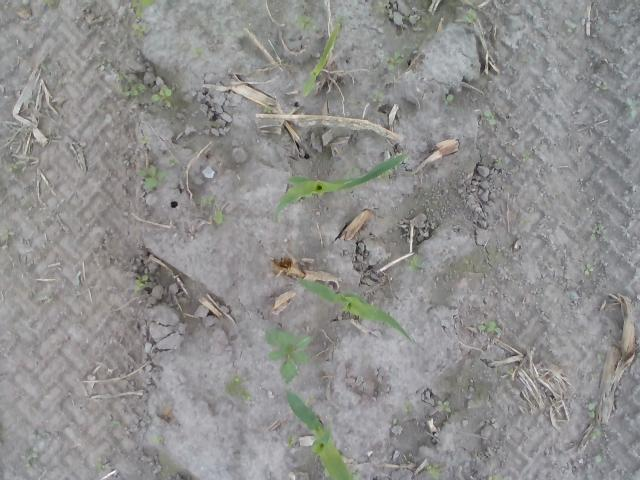Maize: (273, 150, 407, 222), (297, 278, 414, 342), (285, 388, 352, 480), (304, 24, 341, 95)
Weeds: (263, 327, 313, 386), (383, 46, 418, 74), (136, 164, 170, 191), (117, 69, 145, 99), (224, 373, 252, 401), (150, 84, 173, 107), (294, 14, 319, 34), (129, 0, 155, 19), (21, 447, 38, 474), (624, 94, 640, 121), (478, 319, 501, 335), (129, 23, 146, 41), (133, 272, 148, 292), (407, 254, 422, 273), (0, 224, 15, 241), (481, 111, 498, 126), (590, 223, 604, 241), (6, 160, 21, 176), (426, 464, 441, 480), (463, 8, 478, 24), (210, 210, 226, 224), (371, 86, 385, 102), (437, 400, 452, 414), (592, 80, 608, 92), (588, 399, 598, 418), (401, 451, 414, 465), (401, 400, 414, 414), (373, 0, 386, 14), (335, 15, 353, 25), (592, 454, 608, 465), (198, 196, 215, 206), (344, 166, 361, 176), (194, 47, 208, 59), (582, 262, 594, 276), (566, 18, 576, 34), (137, 134, 152, 144), (108, 416, 120, 428), (286, 434, 296, 448), (443, 95, 455, 106), (96, 462, 106, 475), (96, 63, 112, 71), (596, 352, 604, 368), (590, 430, 606, 438), (485, 473, 503, 480), (150, 434, 162, 444), (352, 471, 364, 480), (520, 152, 531, 161), (168, 158, 178, 166), (46, 0, 56, 8), (263, 108, 272, 115), (322, 468, 328, 478), (307, 394, 316, 400)
